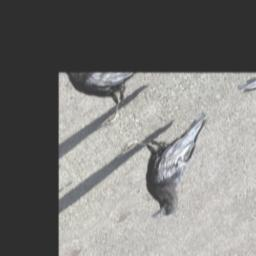Crow: (108, 95, 243, 227)
